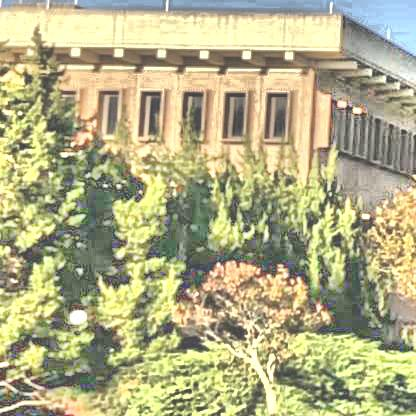golfball: (65, 305, 84, 322)
